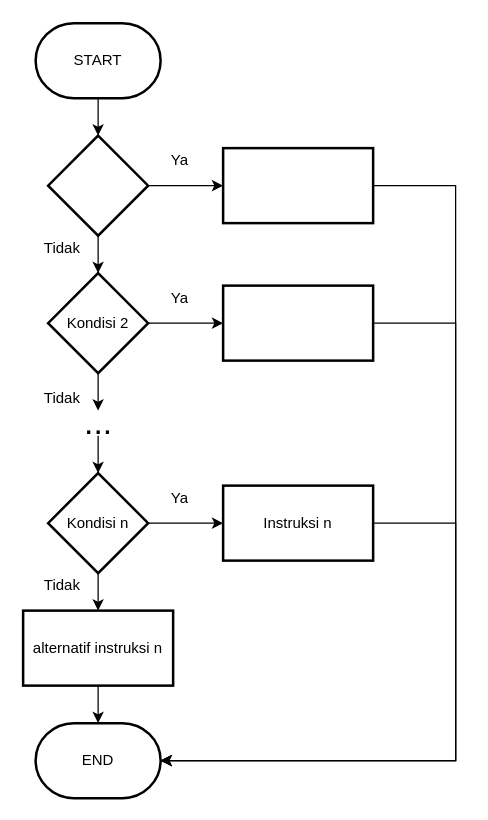
Some shapes in this 488 by 820 pixel diagram are drawn without their labels. The shapes that lost their labels are listed below. From the top down, each one's centre as x and y in pixels, then its label:
(97,185): Kondisi 1
(297,185): instruksi 1
(297,322): instruksi 2
